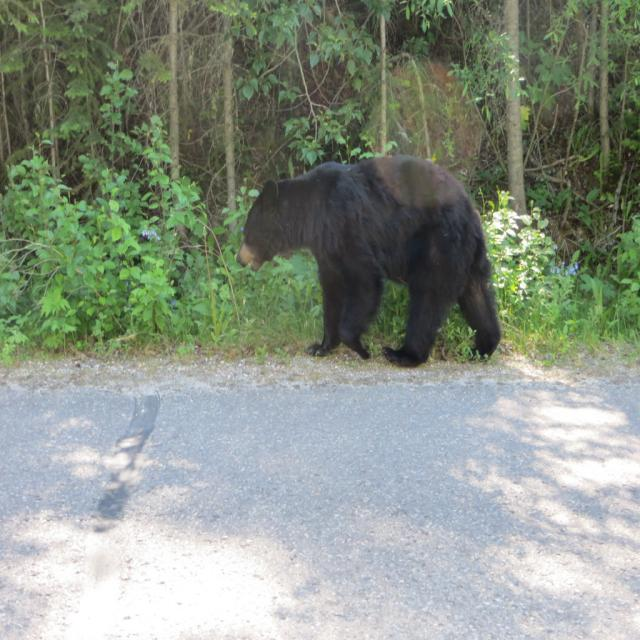bear: (222, 118, 590, 415)
